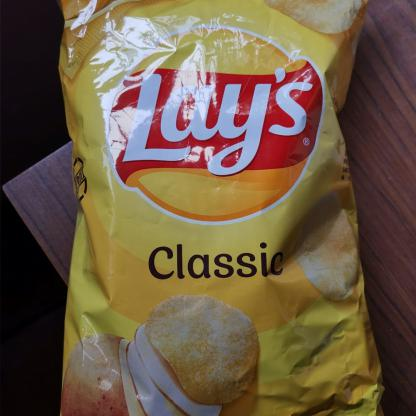potatochip: (57, 0, 388, 416)
